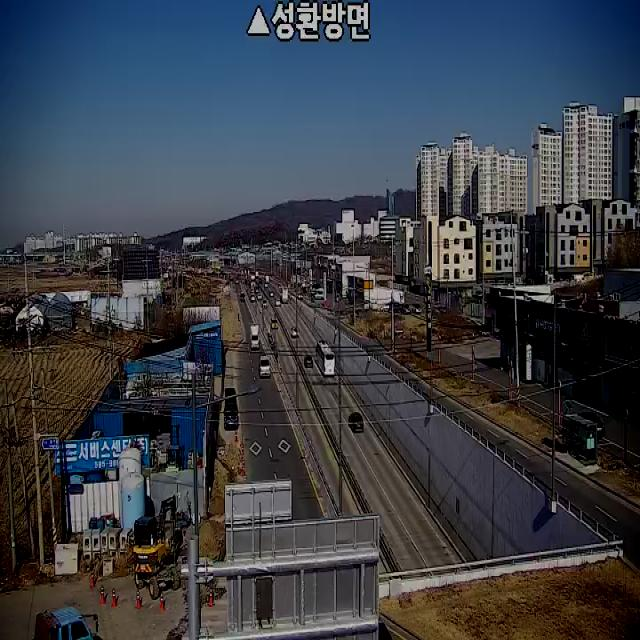Car: (573, 411, 604, 441), (348, 412, 364, 432), (304, 354, 313, 368), (291, 325, 299, 337), (271, 316, 278, 328), (275, 299, 281, 306)
Truck: (34, 607, 99, 640), (316, 340, 335, 376), (223, 388, 237, 428), (260, 354, 271, 378), (250, 324, 260, 350), (280, 288, 288, 303)
